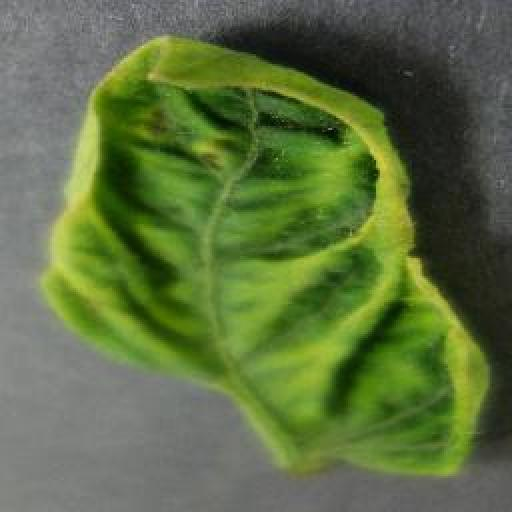disease_tomato: (42, 33, 490, 475)
